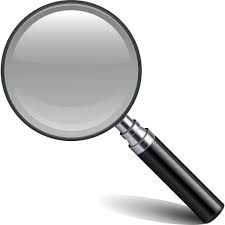searchIcon: (1, 1, 225, 223)
